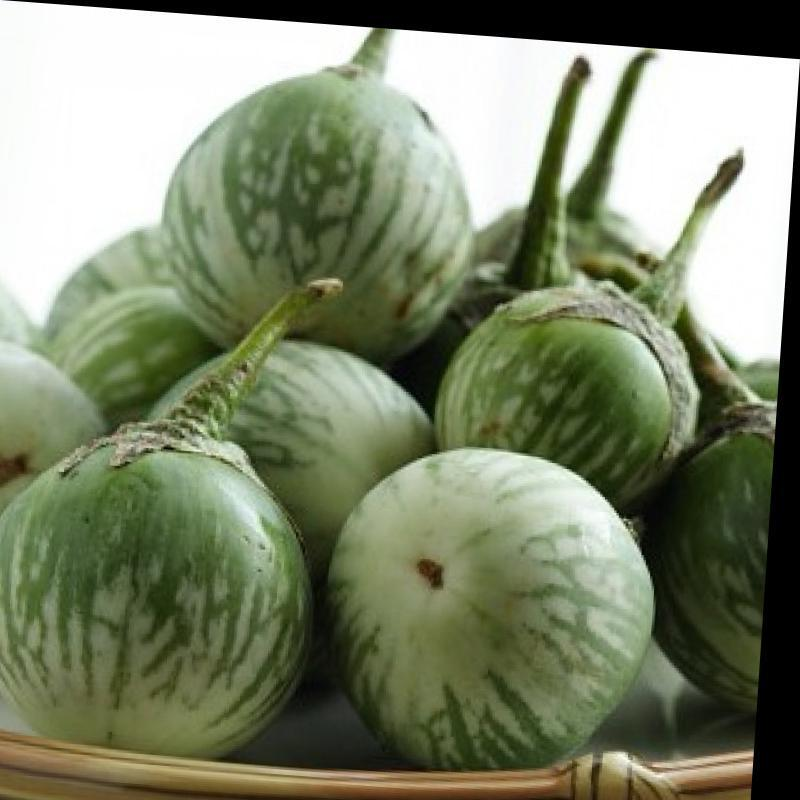eggplant: (438, 47, 740, 452)
